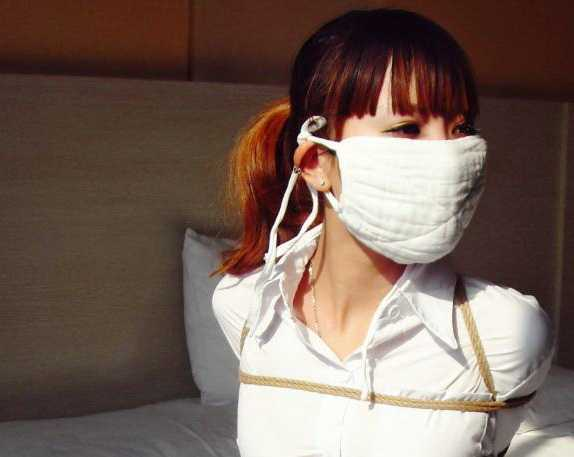face_mask: (334, 75, 481, 266)
